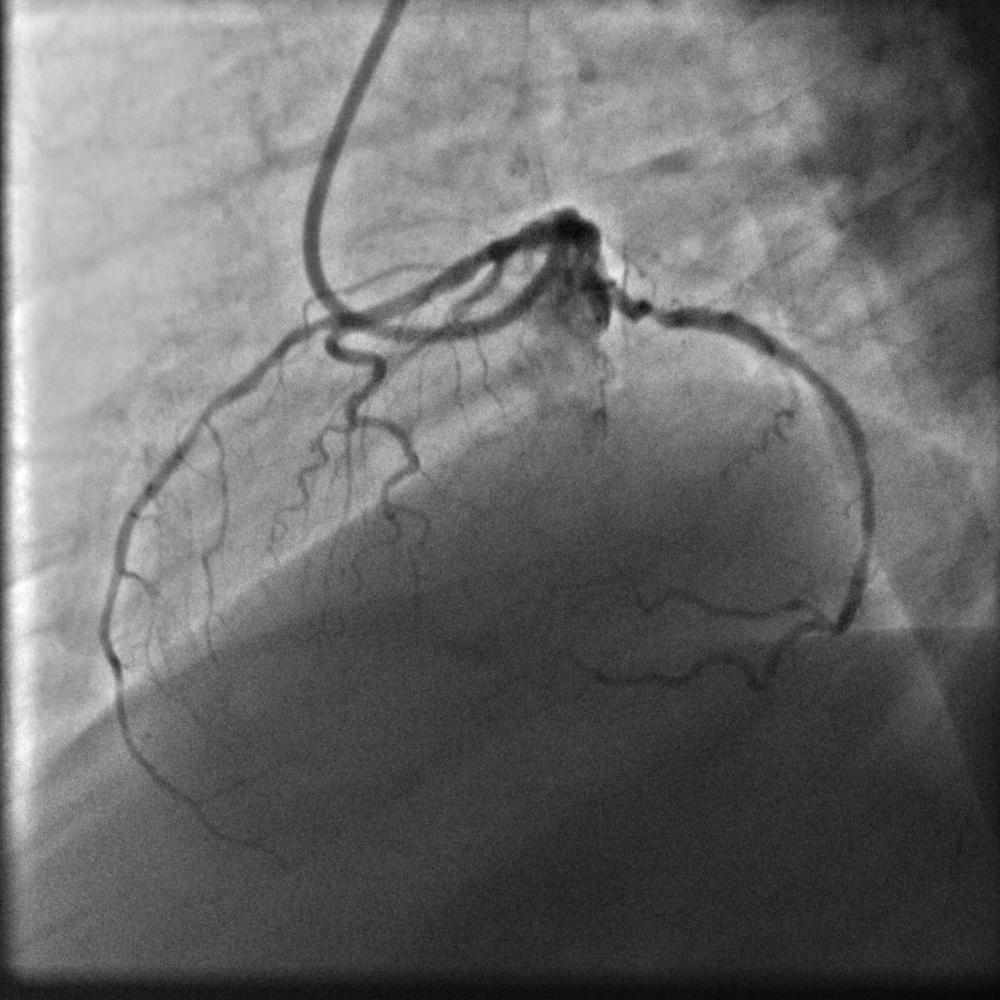Stenosis: (647, 296, 667, 328)
